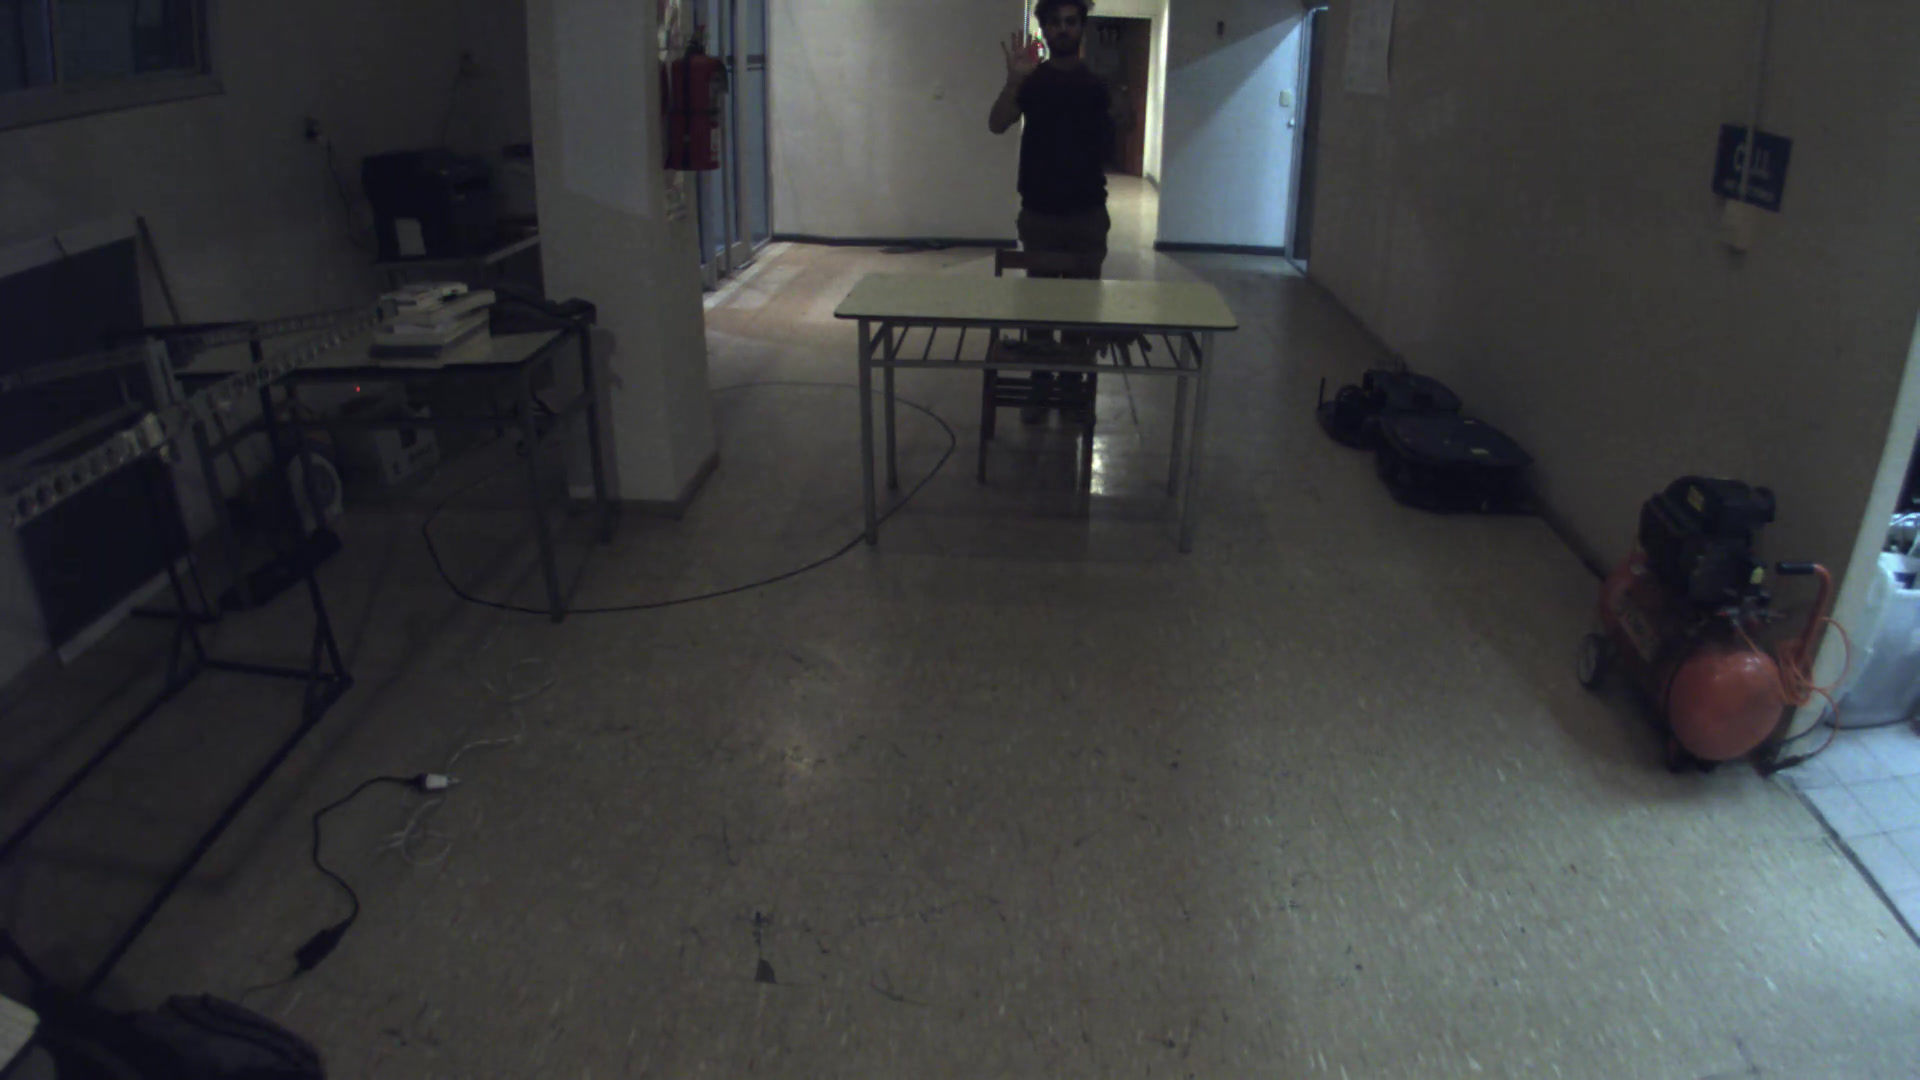hand: (989, 18, 1051, 96), (1077, 18, 1135, 92)
